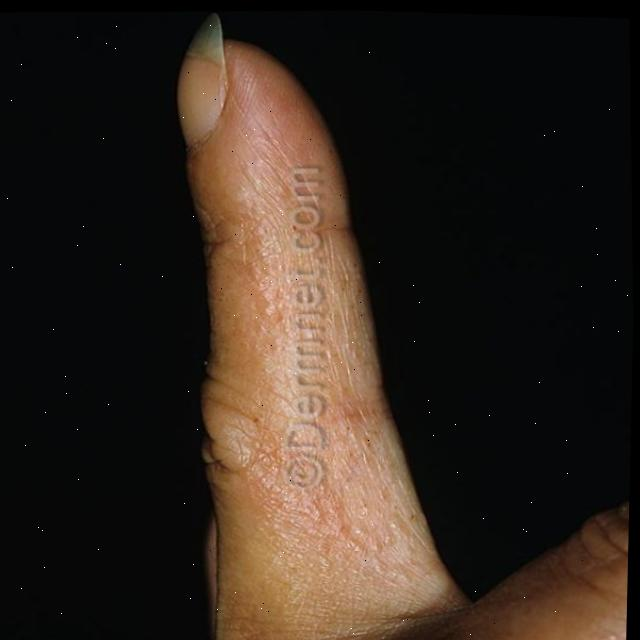Eczema: (247, 114, 354, 528)
